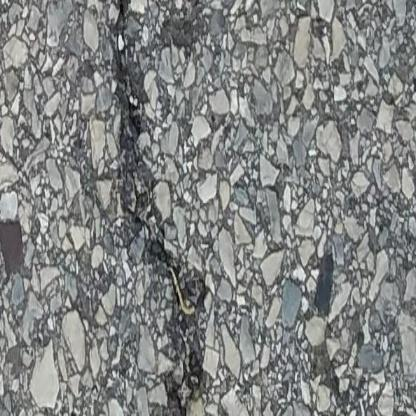Cracks: (112, 0, 146, 138), (173, 394, 202, 416), (153, 237, 174, 267)
